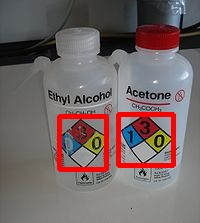nfpa: (118, 114, 173, 165), (59, 116, 106, 169)
